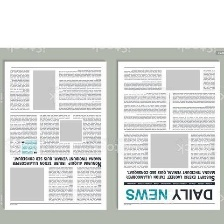news_paper: (2, 59, 109, 211), (116, 59, 221, 210)
